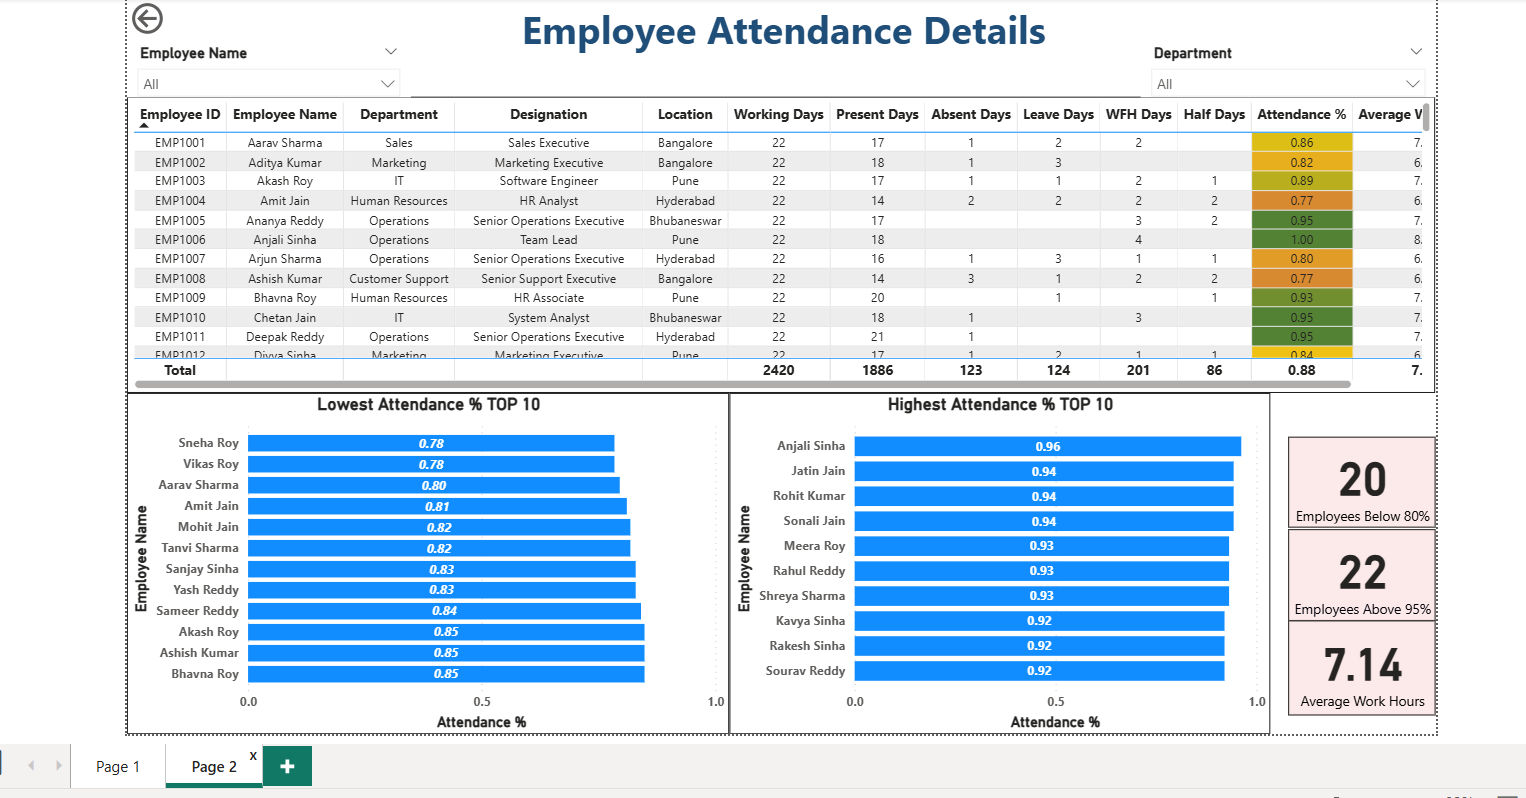

The page's visual inventory and layout, read from the dashboard file:
{"tool":"powerbi","page":{"name":"Page 2","canvas":[1280,720],"ordinal":1},"visuals":[{"type":"textbox","box":[340.9,0,585.2,61.4],"z":0},{"type":"tableEx","fields":{"Values":["Employee Master.Employee ID","Employee Master.Employee Name","Employee Master.Department","Employee Master.Designation","Employee Master.Location","Attendance Raw.Working Days","Attendance Raw.Present Days","Attendance Raw.Absent Days","Attendance Raw.Leave Days","Attendance Raw.WFH Days","Attendance Raw.Half Days","Attendance Raw.Attendance %"]},"box":[0,96.6,1279.5,289.8],"z":1000},{"type":"actionButton","box":[0,0,100,40],"z":2000},{"type":"barChart","title":"Lowest Attendance % TOP 10","fields":{"Category":["Employee Master.Employee Name"],"Y":["Attendance Raw.Attendance %"]},"box":[0,386.2,588.8,333.8],"z":3000},{"type":"barChart","title":"Highest Attendance % TOP 10","fields":{"Category":["Employee Master.Employee Name"],"Y":["Attendance Raw.Attendance %"]},"box":[588.8,386.2,528.8,333.8],"z":4000},{"type":"slicer","fields":{"Values":["Employee Master.Employee Name"]},"box":[0,39.8,277.3,56.8],"z":5000},{"type":"slicer","fields":{"Values":["Employee Master.Department"]},"box":[990.9,39.8,288.6,56.8],"z":6000},{"type":"card","fields":{"Values":["Attendance Raw.Employees Below 80%"]},"box":[1135.2,429.5,144.3,88.6],"z":7000},{"type":"card","fields":{"Values":["Attendance Raw.Employees Above 95%"]},"box":[1135.2,519.3,144.3,89.8],"z":8000},{"type":"card","fields":{"Values":["Attendance Raw.Average Work Hours"]},"box":[1135.2,609.1,144.3,93.2],"z":9000}]}

Visuals, with their boxes on the page's 1280x720 design canvas (x1, y1, x2, y2). These are canvas units, not pixel positions in the 1526x798 screenshot, which may show the page scaled, cropped or inside an application window:
textbox: bbox=[341, 0, 926, 61]
tableEx - Employee Master.Employee ID x Employee Master.Employee Name: bbox=[0, 97, 1280, 386]
actionButton: bbox=[0, 0, 100, 40]
"Lowest Attendance % TOP 10" barChart: bbox=[0, 386, 589, 720]
"Highest Attendance % TOP 10" barChart: bbox=[589, 386, 1118, 720]
slicer - Employee Master.Employee Name: bbox=[0, 40, 277, 97]
slicer - Employee Master.Department: bbox=[991, 40, 1280, 97]
card - Attendance Raw.Employees Below 80%: bbox=[1135, 430, 1280, 518]
card - Attendance Raw.Employees Above 95%: bbox=[1135, 519, 1280, 609]
card - Attendance Raw.Average Work Hours: bbox=[1135, 609, 1280, 702]
